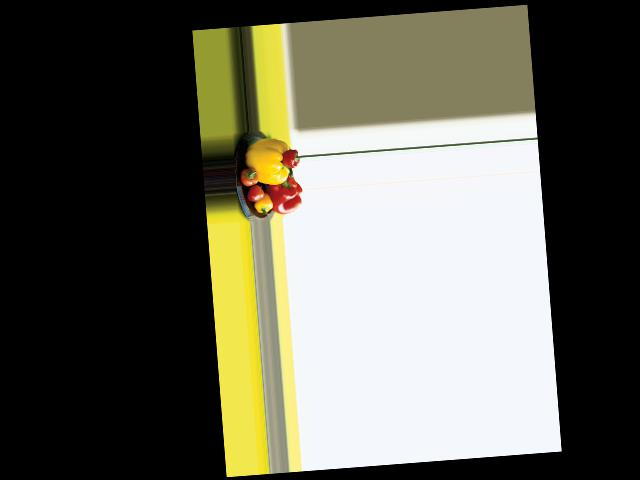bell_pepper: (254, 194, 274, 215)
